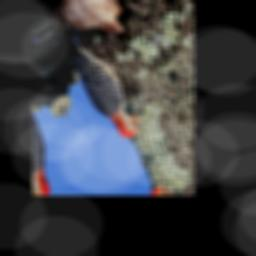Woodpecker: (59, 0, 154, 154)
